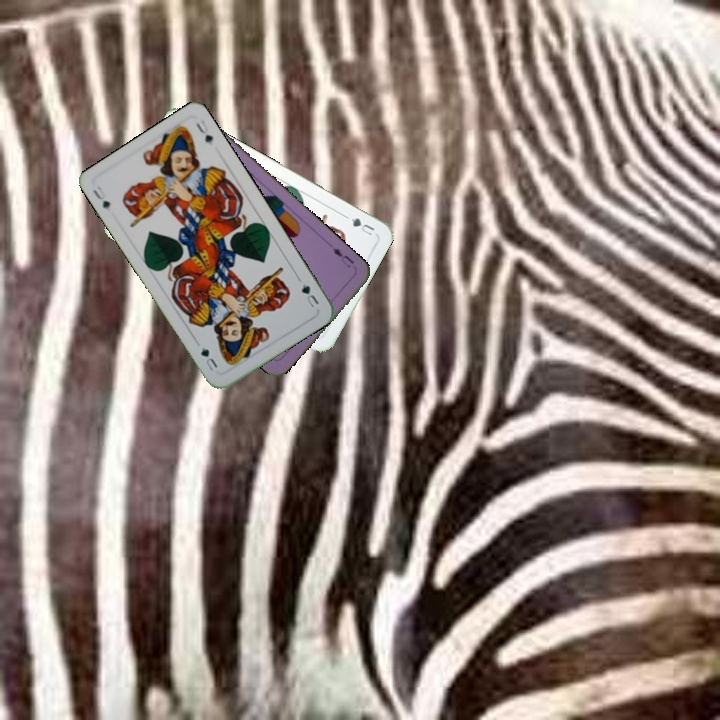EU: (329, 244, 356, 270)
GU: (297, 280, 322, 310), (347, 214, 377, 238), (89, 182, 113, 211)
